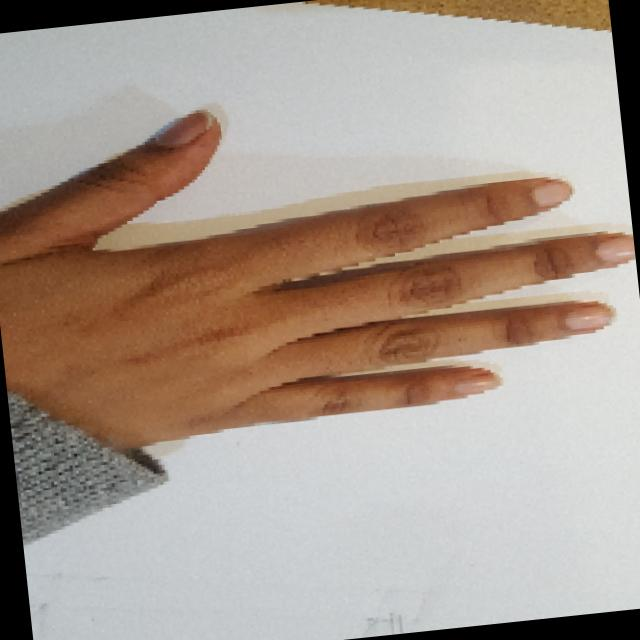Nail: (153, 111, 206, 146), (564, 303, 611, 329), (594, 234, 634, 262), (531, 178, 570, 206), (454, 372, 499, 394)
